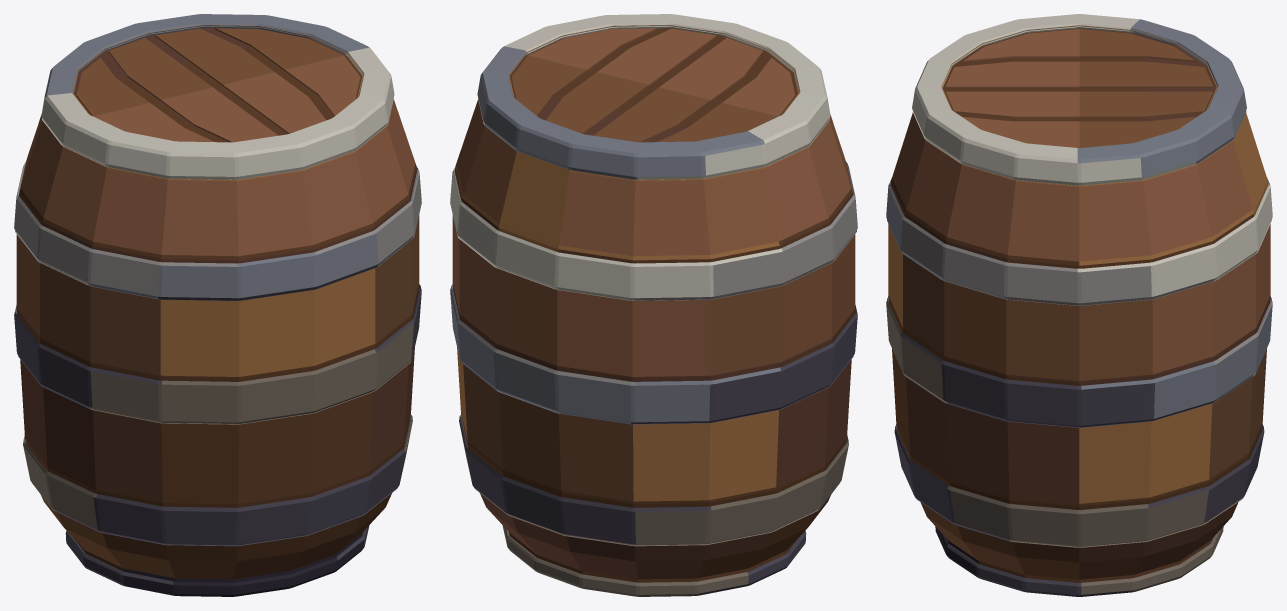
The model's file is openable_barrel.glb.
The picture shows the model from 3 angles, left to right: view 1: azimuth 30°, elevation 25°; view 2: azimuth 150°, elevation 25°; view 3: azimuth 270°, elevation 25°; orthographic projection.
Parts seen in each view (by area): view 1: Lid; view 2: Lid; view 3: Lid.
Boxes of the visible parts, x1=… form: Lid: x1=14, y1=14, x2=421, y2=596; Lid: x1=450, y1=14, x2=857, y2=596; Lid: x1=886, y1=14, x2=1272, y2=596.
Bounding box in the file's own units: 0.5813 × 0.7 × 0.5476.
